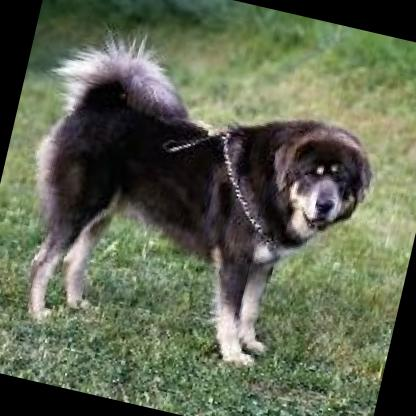Tibetan_mastiff: (0, 14, 397, 401)
